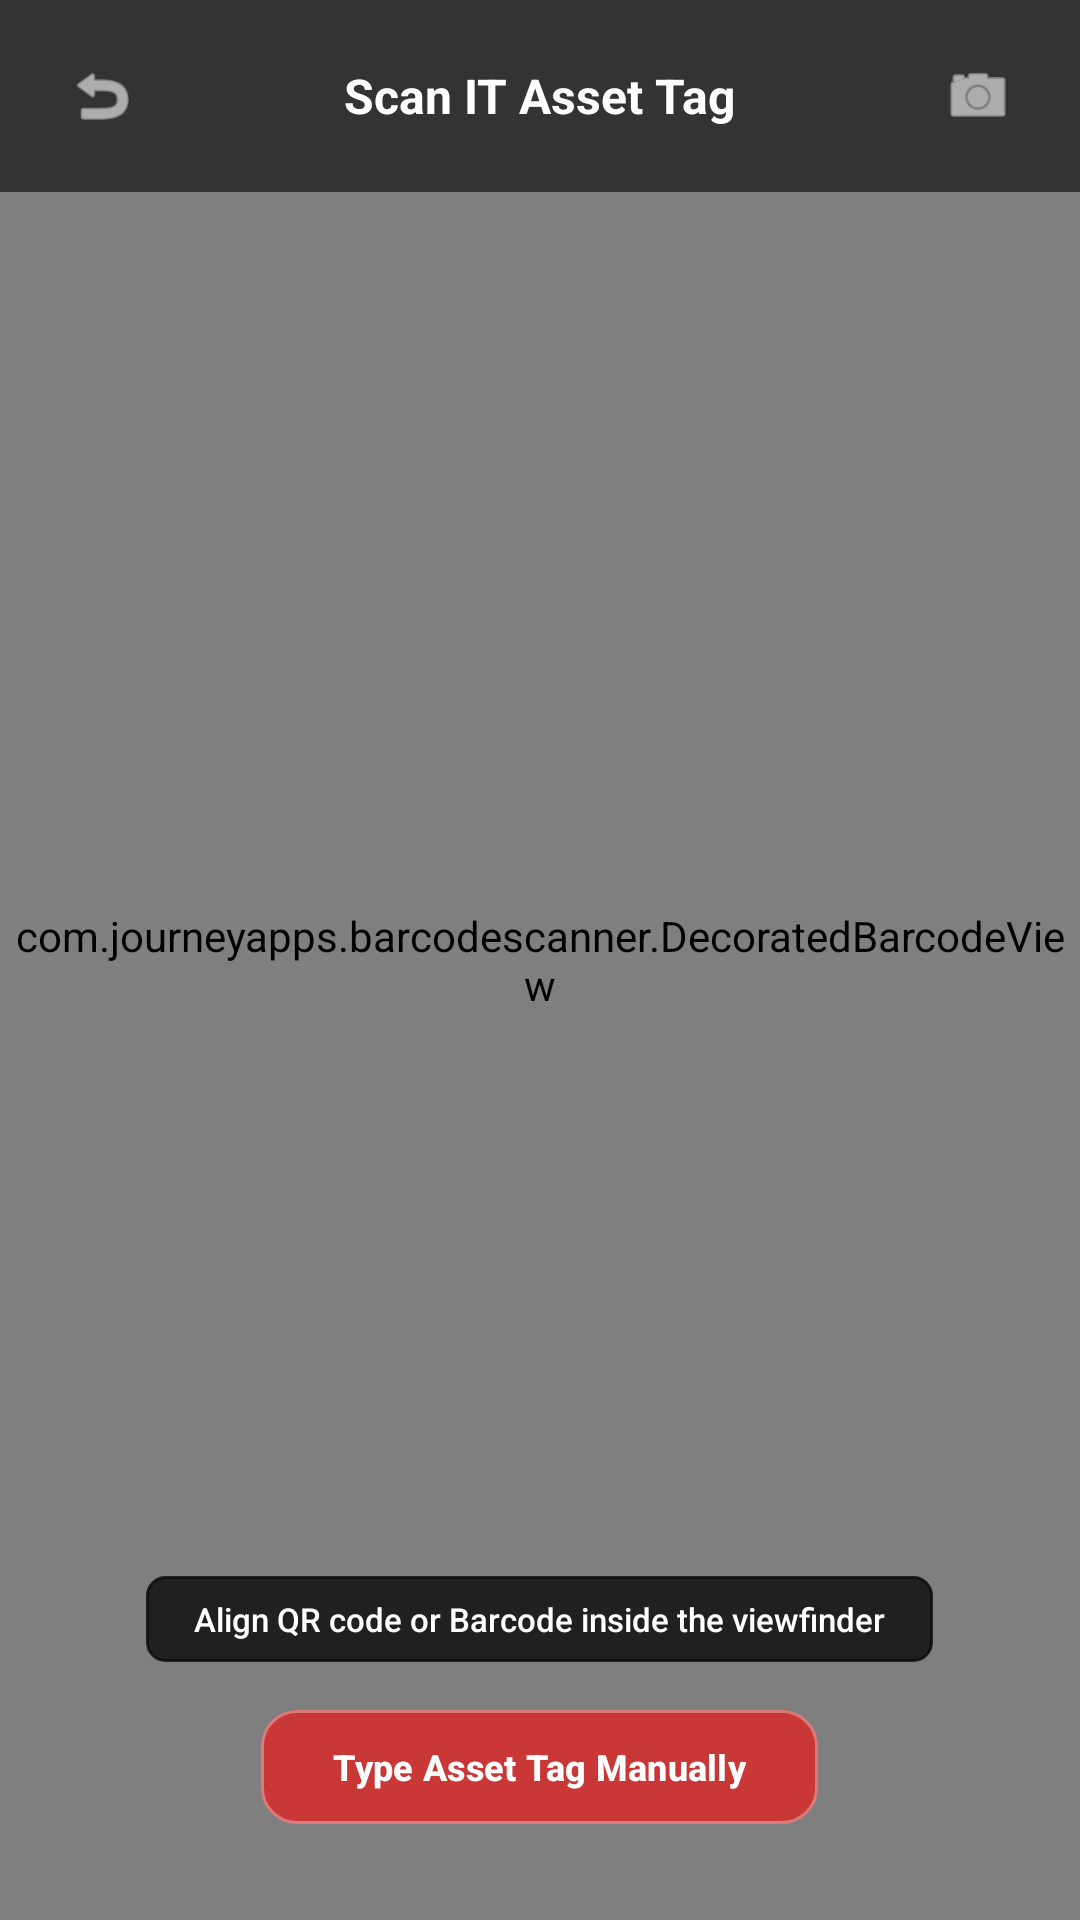

Icons on this 1080 x 1920 Android screen, each with its box as (x1,y1,x2,y2):
Back: (77,73,129,120)
